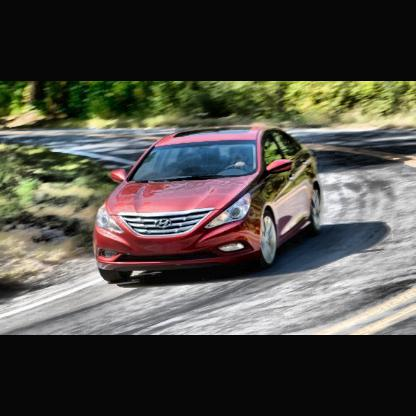Hyundai Sonata Sedan 2012: (93, 123, 325, 285)
